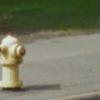a fire hydrant: (1, 35, 26, 93)
